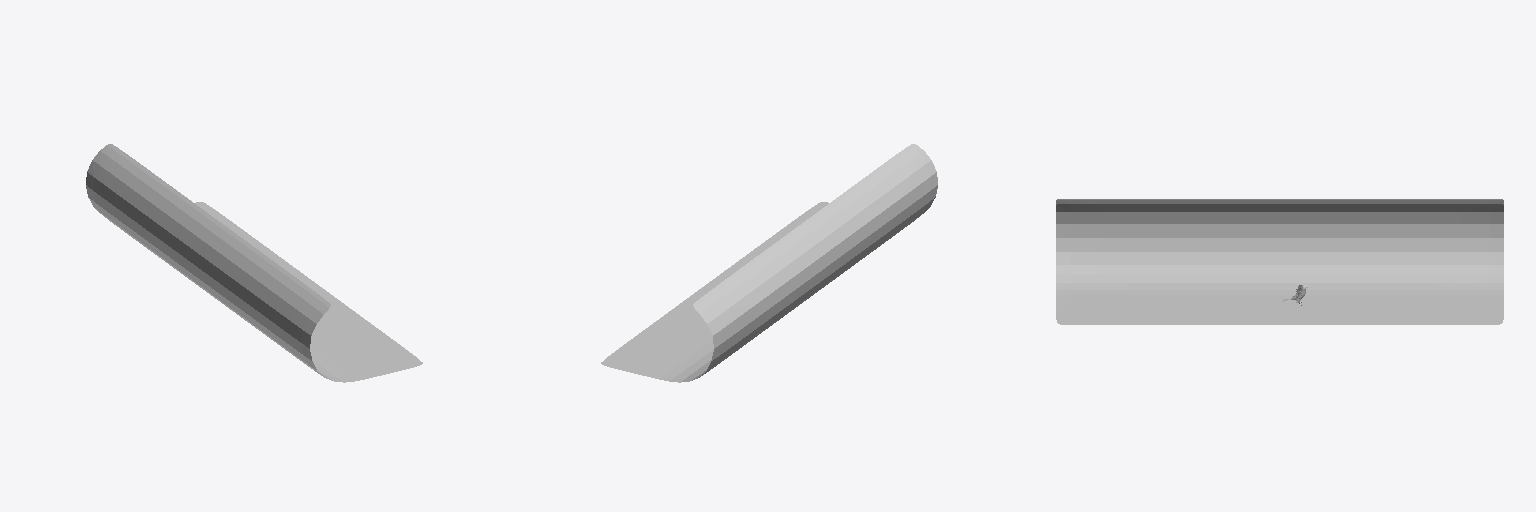
File: bird.obj
3 views of the same model, side by side, from view 1: azimuth 30°, elevation 25°; view 2: azimuth 150°, elevation 25°; view 3: azimuth 270°, elevation 25° (orthographic).
Parts seen in each view (by area): view 1: Plane.001; view 2: Plane.001; view 3: Plane.001.
Part boxes in pixels (x1,y1,x2,y2): Plane.001: (86, 144, 422, 382); Plane.001: (601, 144, 937, 382); Plane.001: (1056, 199, 1503, 324).
Size of the model in its own units: 10.05 by 6.66 by 33.21.